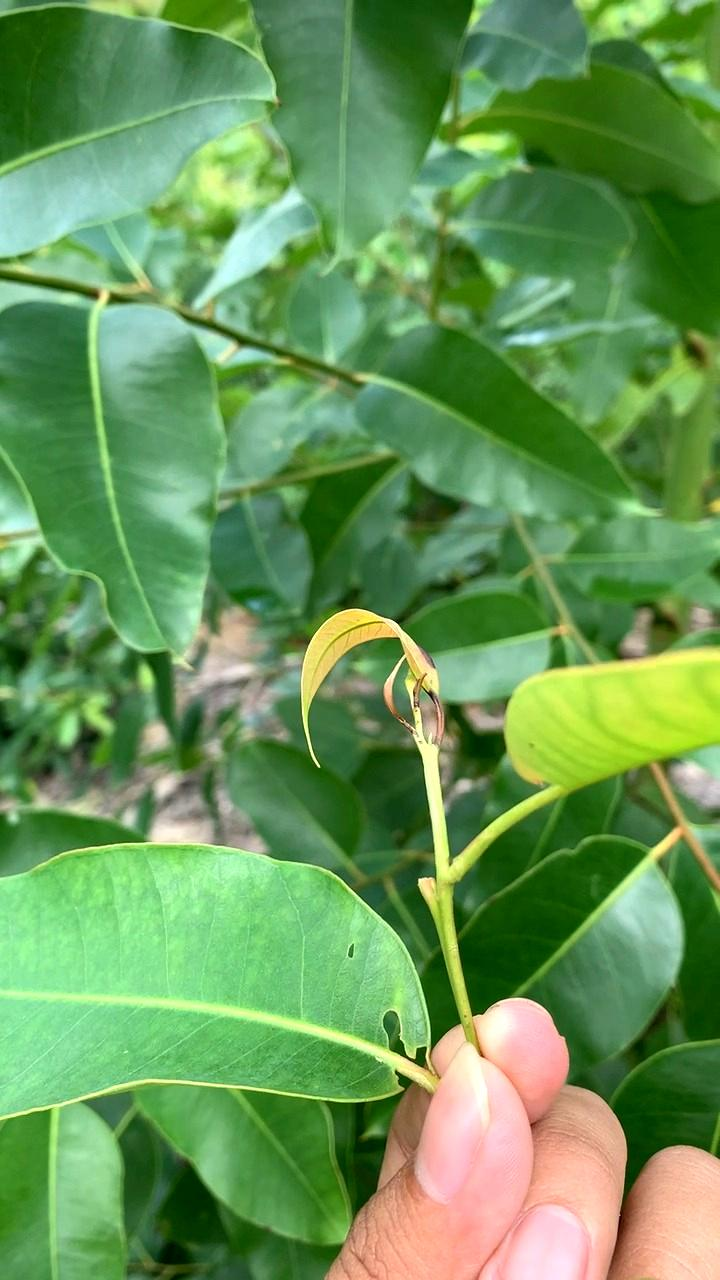Helopeltis-Withered Sprout: (287, 593, 468, 793)
